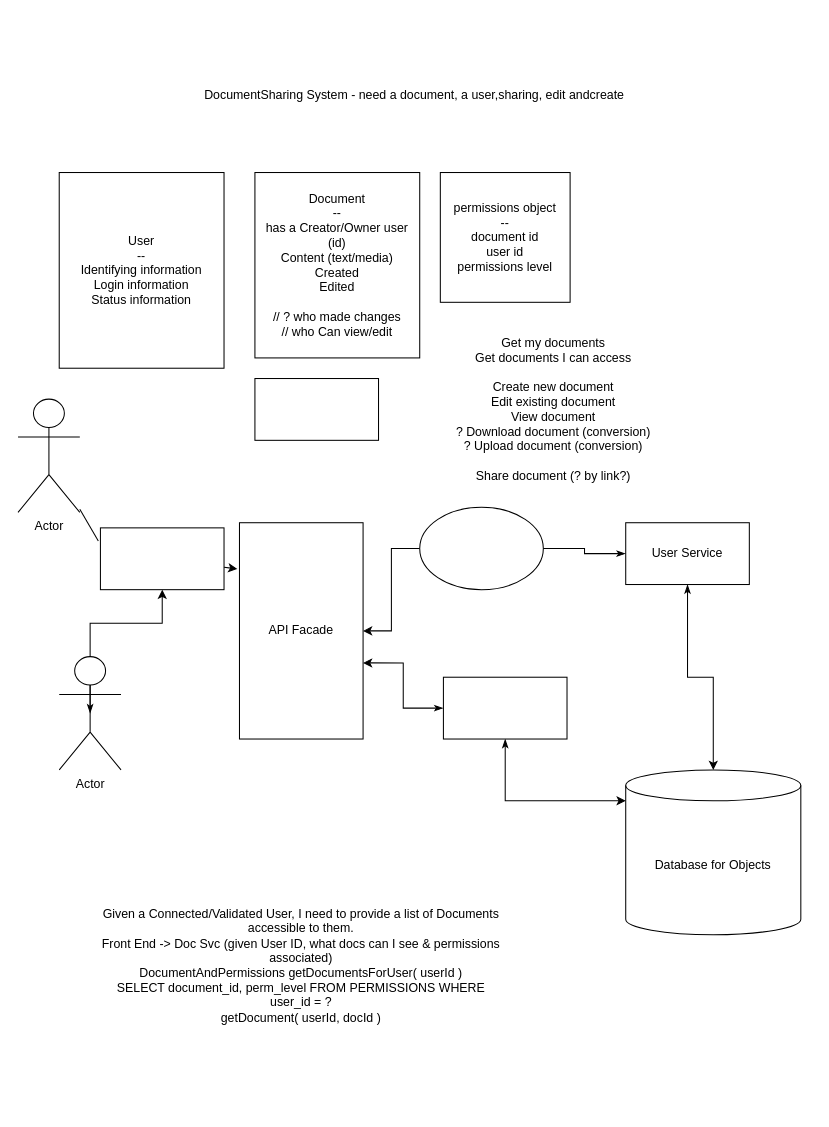
Some shapes in this 829 by 1127 pixel diagram are drawn without their labels. Each missing label, with the centre of its shape:
"Auth Service" belongs at pixel 481 548.
"Changes?" belongs at pixel 316 408.
"Document Service (incl. Permissions)" belongs at pixel 504 707.
"Front End" belongs at pixel 161 558.
